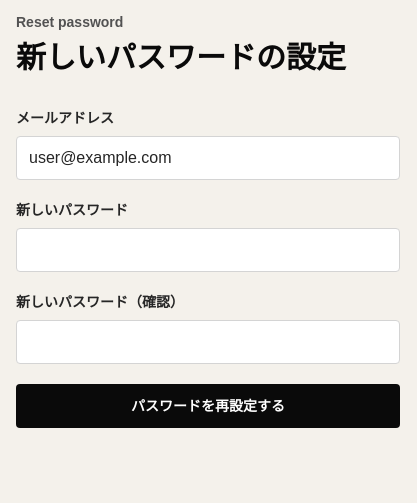
Scenario: ResetPasswordForm › トークンが無効(422)なら、その内容を出す
Type "new-password" into the password field labelled "新しいパスワード" at coordinates (208, 250), box [16,228,400,272]
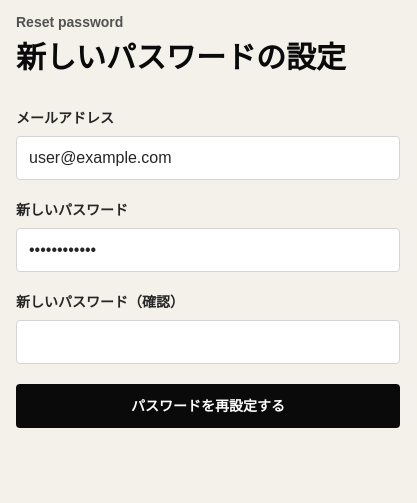
Type "new-password" into the password field labelled "新しいパスワード（確認）" at coordinates (208, 342), box [16,320,400,364]
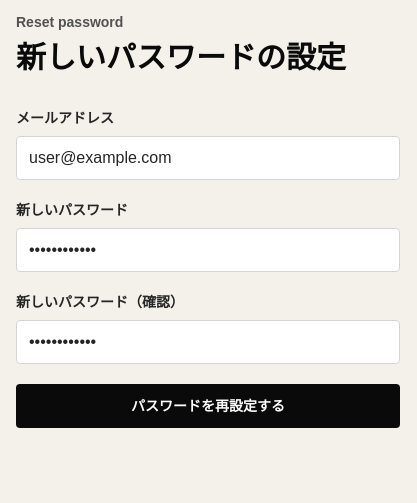
Click the button "パスワードを再設定する" at coordinates (208, 406), box [16,384,400,428]
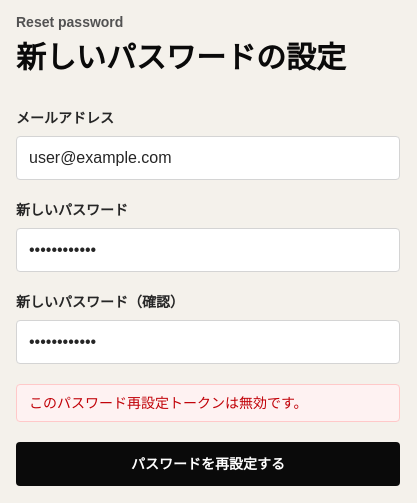
expect the text "このパスワード再設定トークンは無効です。" is shown: met, box [16,384,400,422]
